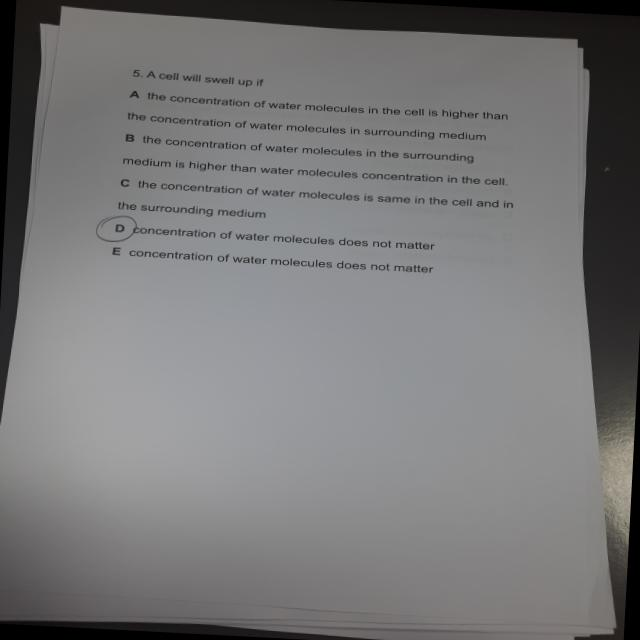D: (93, 212, 142, 245)
